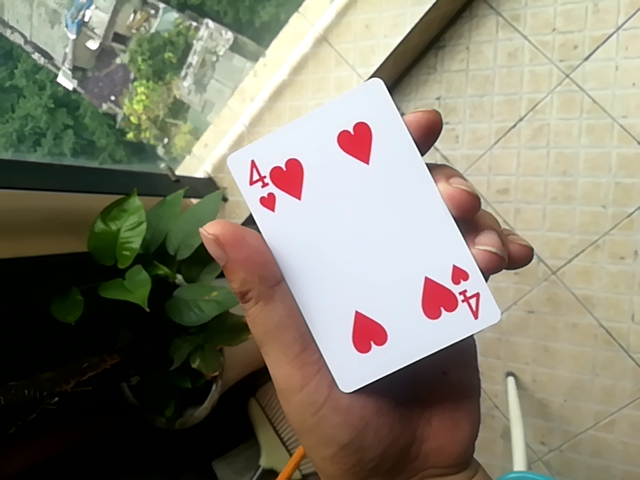hx 4: (232, 81, 491, 405)
